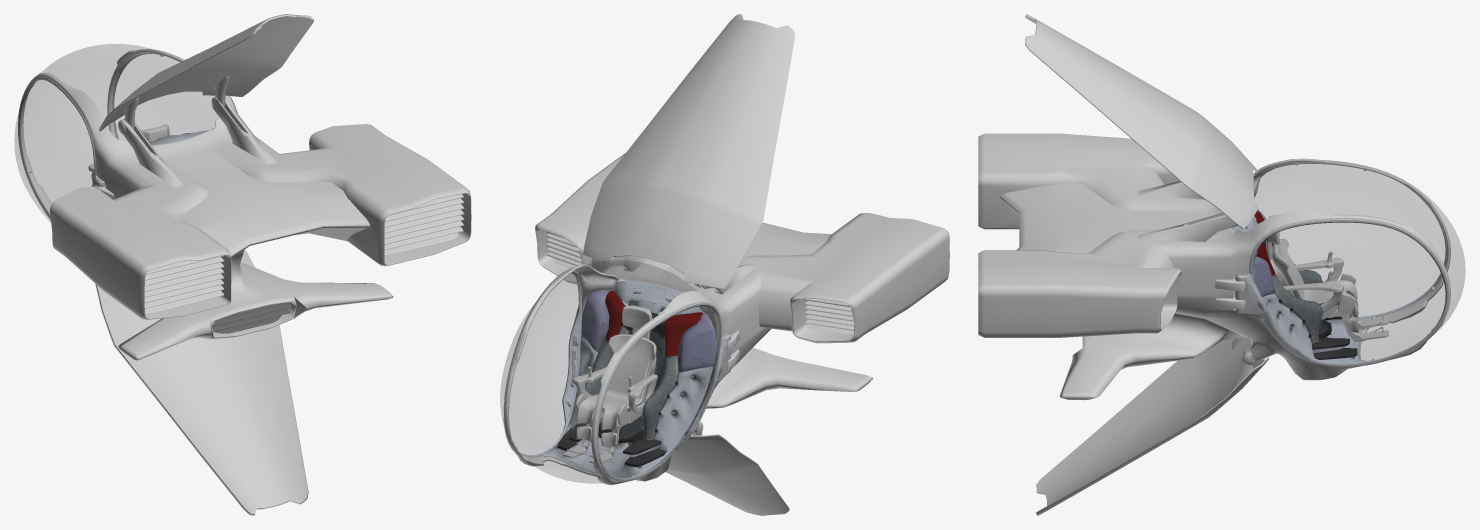
File: ship2.FBX
3 renders of one model, left to right at view 1: azimuth 30°, elevation 25°; view 2: azimuth 150°, elevation 25°; view 3: azimuth 270°, elevation 25°, orthographic. The views are drawn at different scales.
Visible parts, largest first — view 1: korpus, wing2, glass1, wing1, Object001e3; view 2: korpus, glass1, wing1, salon, poly_Kreslo, wing2, Object001; view 3: korpus, Object001, wing1, wing2, glass1, salon, poly_Kreslo.
Boxes of the visible parts, x1,y1,x2,y2 form: korpus: (21, 49, 471, 360); wing2: (95, 249, 308, 515); glass1: (14, 44, 218, 222); wing1: (99, 14, 313, 131); Object001e3: (212, 302, 291, 333); korpus: (503, 153, 949, 485); glass1: (508, 260, 730, 483); wing1: (583, 14, 794, 288); salon: (545, 280, 717, 477); poly_Kreslo: (563, 305, 657, 463); wing2: (665, 432, 789, 515); Object001: (500, 272, 581, 456); korpus: (978, 133, 1450, 400); Object001: (1235, 219, 1448, 367); wing1: (1025, 14, 1258, 228); wing2: (1036, 337, 1269, 515); glass1: (1232, 160, 1465, 331); salon: (1232, 209, 1371, 363); poly_Kreslo: (1267, 214, 1388, 341).
Size of the model in its own units: 367 by 522 by 478.
